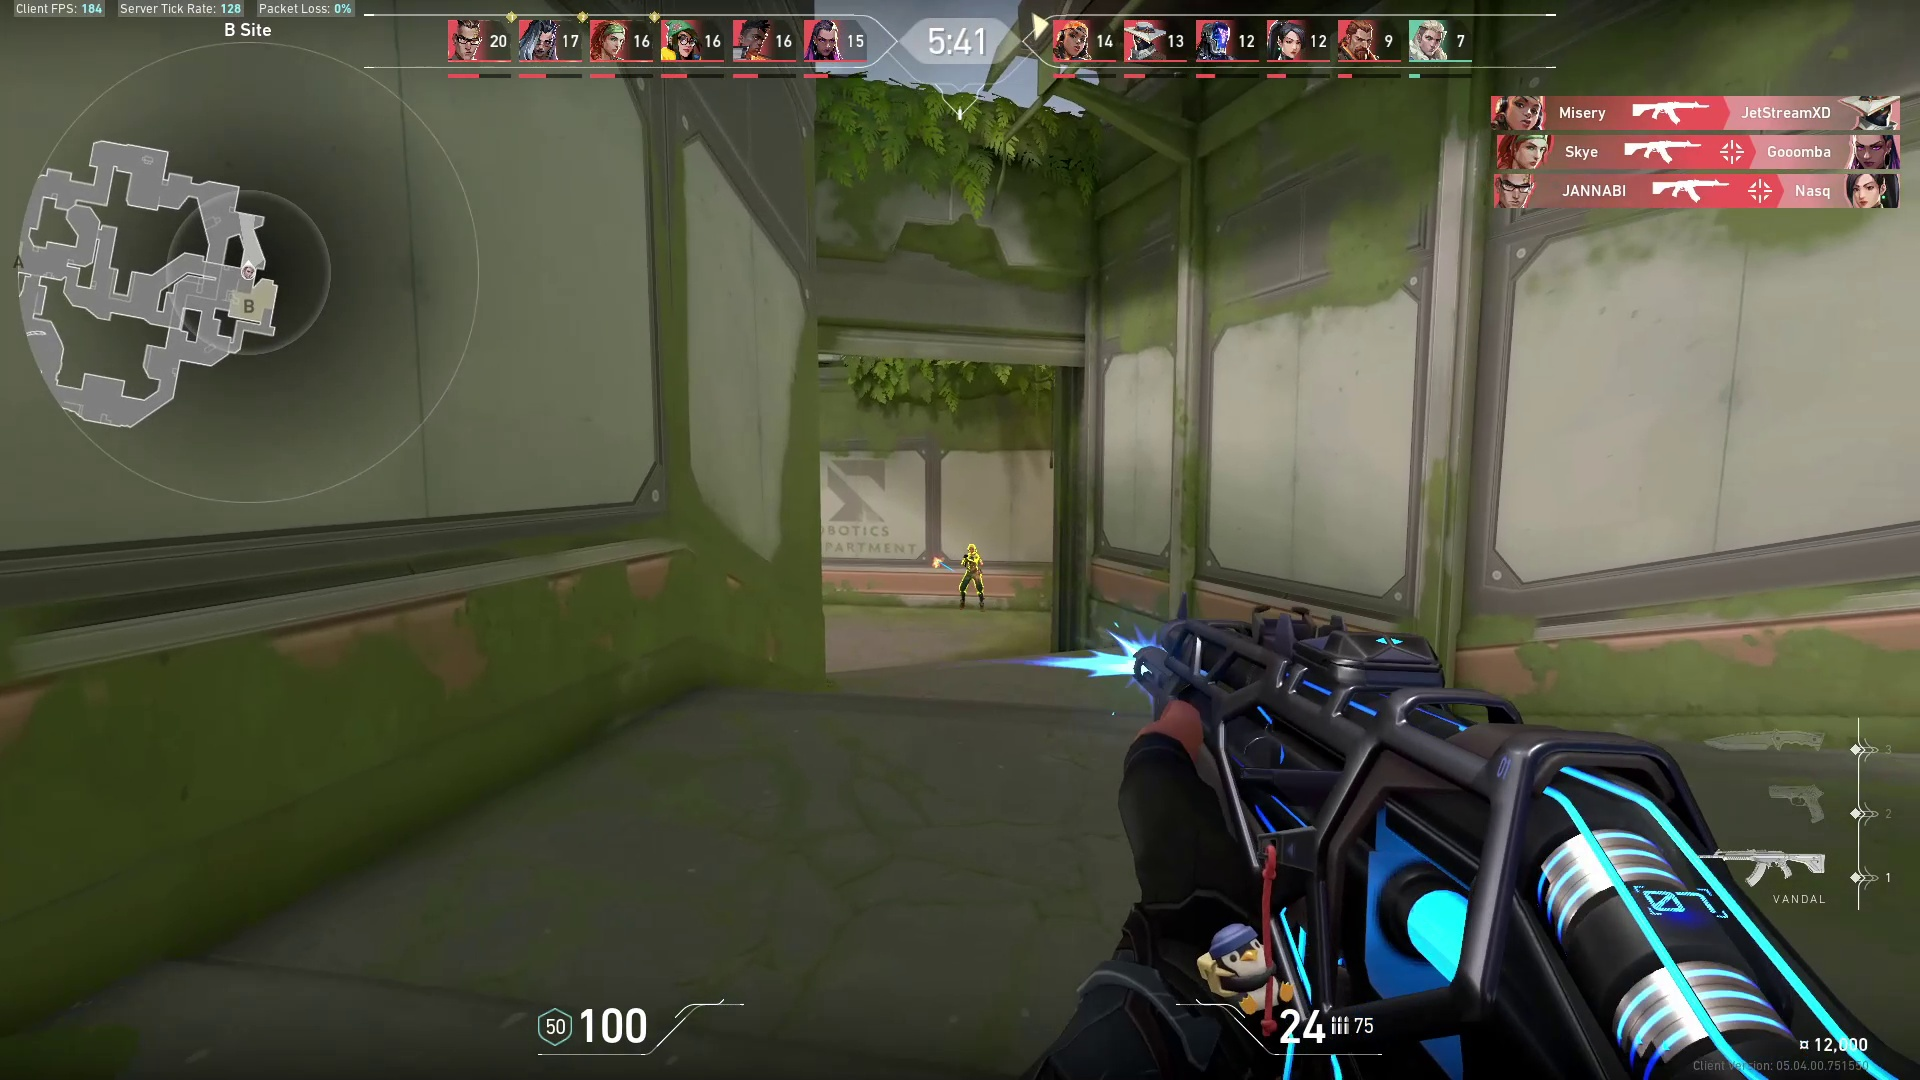enemy_body: (959, 554, 986, 613)
enemy_head: (965, 541, 979, 555)
